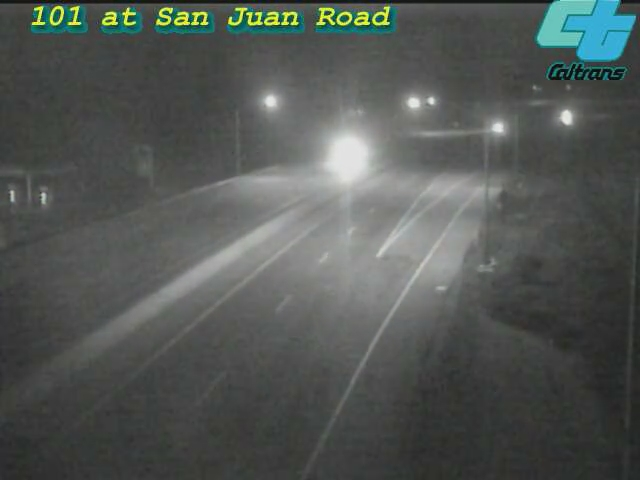vehicle: (323, 131, 373, 181), (472, 104, 522, 154), (539, 94, 589, 144)
